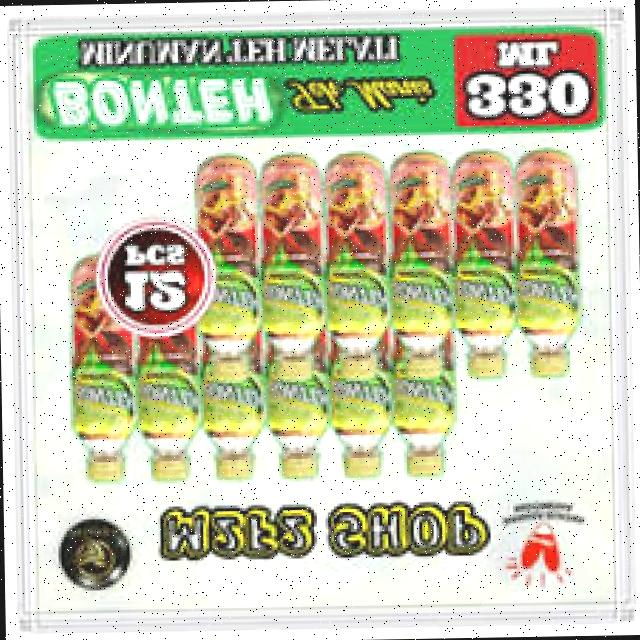bottle: (43, 256, 138, 496), (176, 156, 259, 393), (134, 252, 212, 499), (250, 150, 329, 383), (322, 156, 398, 380), (447, 151, 518, 385), (516, 147, 586, 377), (320, 281, 391, 488), (202, 286, 274, 490), (387, 299, 463, 486), (396, 156, 460, 378), (272, 294, 332, 486)
cap: (337, 448, 388, 482), (212, 452, 260, 483), (276, 448, 324, 478), (402, 448, 450, 475), (82, 452, 120, 486), (149, 456, 193, 478)
